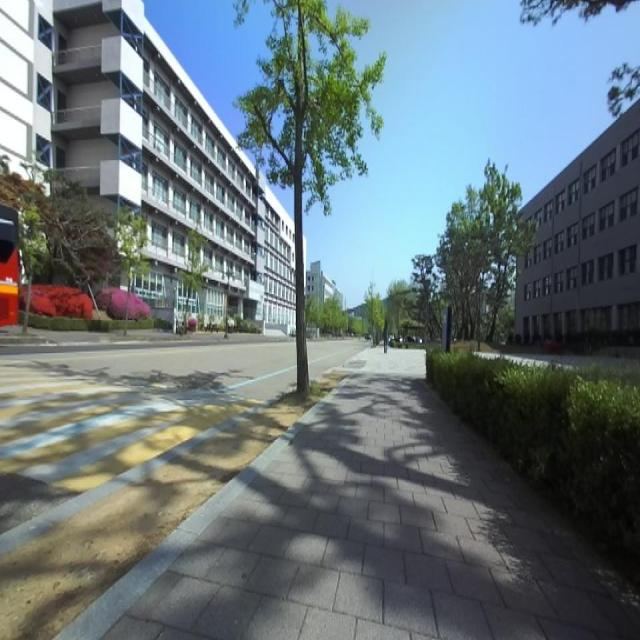sidewalk: (103, 348, 640, 639), (104, 370, 640, 639), (54, 377, 348, 640)
